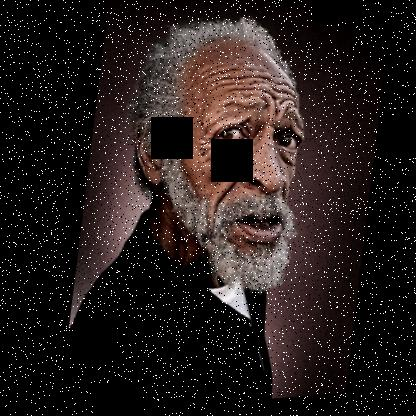Male: (96, 26, 327, 306)
